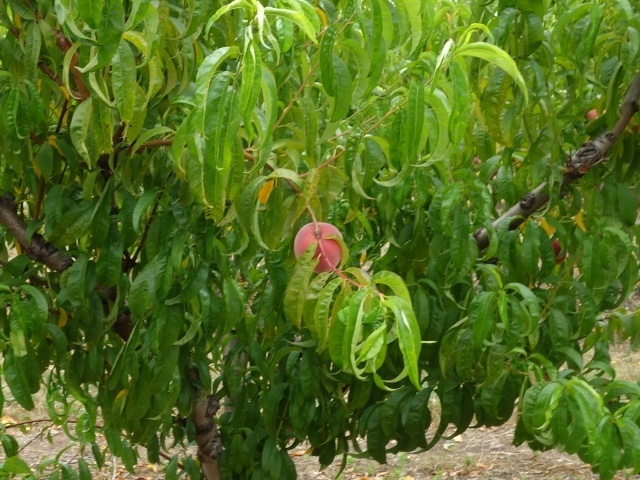peach: (291, 217, 348, 278), (547, 238, 568, 266)
